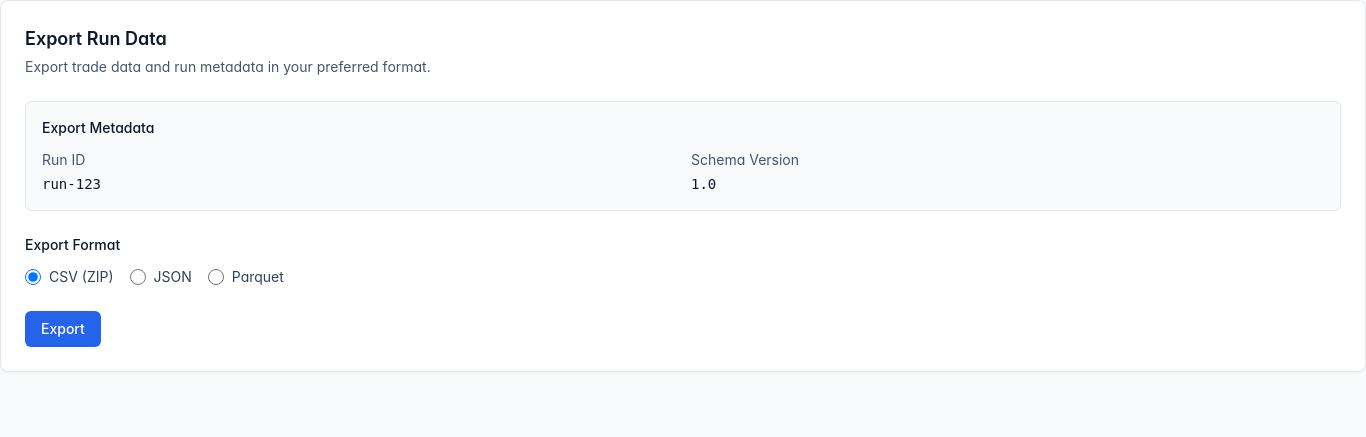
it: ExportCenter › shows download link when export is complete
The width and height of the screenshot is (1366, 437).
Step 1. Click the button with test id "export-button" → (63, 329), box [25,311,101,347]
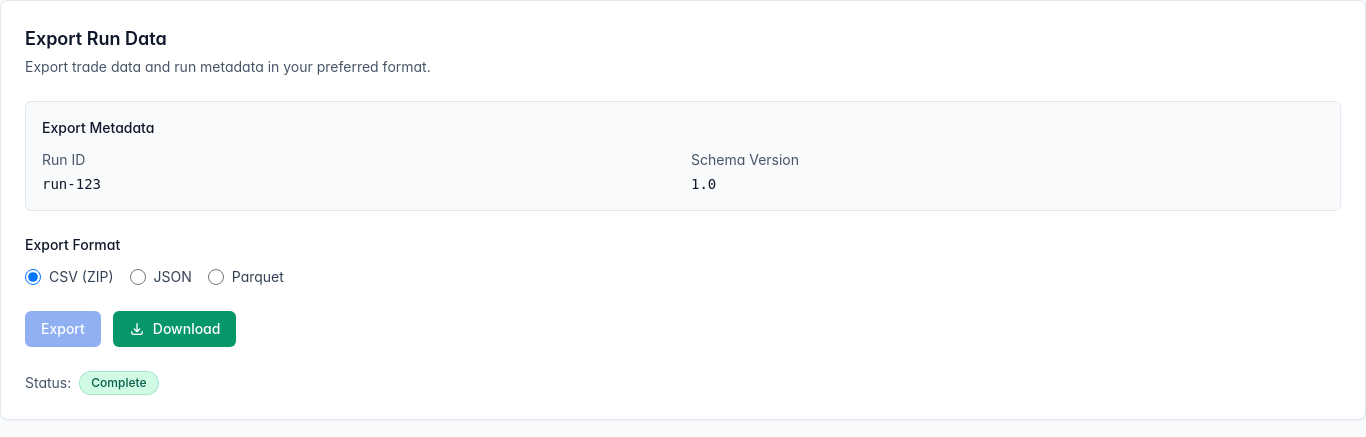
Expected: the button with test id "export-download-button" is enabled, [113,311,236,347]
